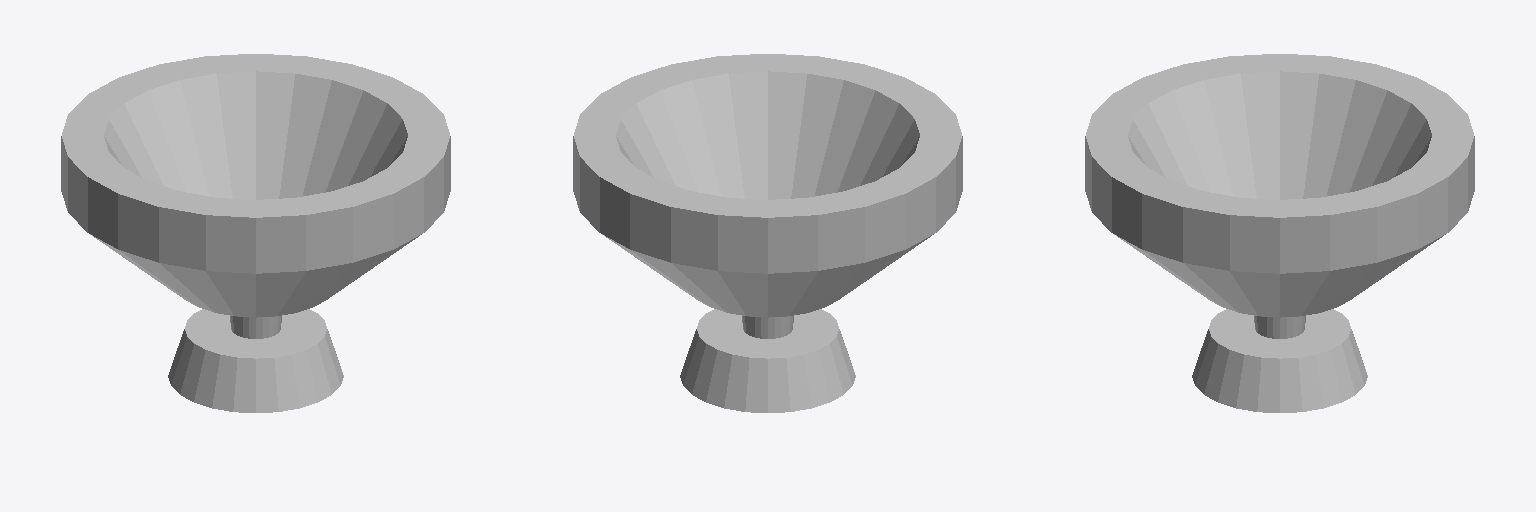
Rendered from detailBowl.obj.
The picture shows the model from 3 angles: view 1: azimuth 30°, elevation 25°; view 2: azimuth 150°, elevation 25°; view 3: azimuth 270°, elevation 25°; orthographic projection.
Parts seen in each view (by area): view 1: detailBowl; view 2: detailBowl; view 3: detailBowl.
Part boxes in pixels (x1,y1,x2,y2): detailBowl: (61, 54, 450, 412); detailBowl: (573, 54, 962, 412); detailBowl: (1085, 54, 1474, 412).
Size of the model in its own units: 1.24 by 0.8459 by 1.24.